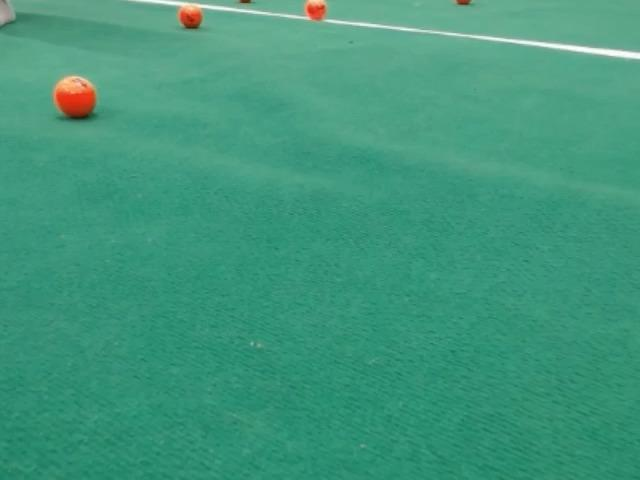Ball: (53, 75, 96, 118), (178, 3, 202, 28), (304, 0, 326, 22)
